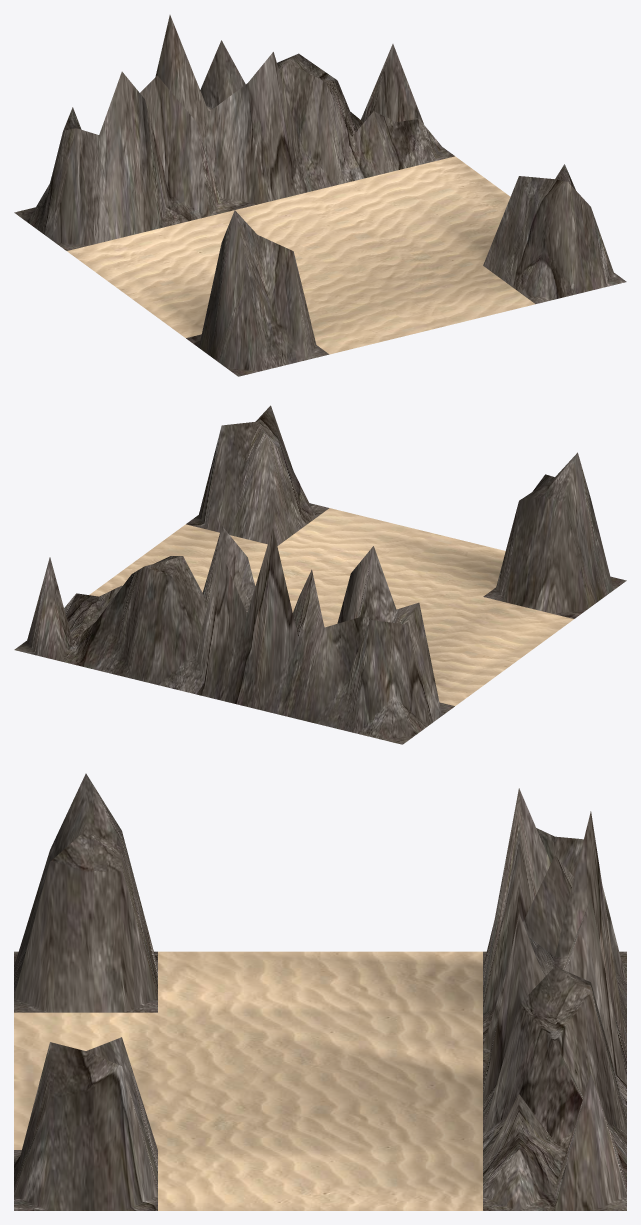
The model's file is troad.fbx.
3 views of the same model, one above another, from view 1: azimuth 30°, elevation 25°; view 2: azimuth 150°, elevation 25°; view 3: azimuth 270°, elevation 25° (orthographic). The views are drawn at different scales.
Visible parts, largest first — view 1: troad; view 2: troad; view 3: troad.
Part boxes in pixels (x1,y1,x2,y2): troad: (14, 15, 626, 376); troad: (14, 405, 626, 744); troad: (14, 773, 626, 1210).
Size of the model in its own units: 500 by 213 by 500.
